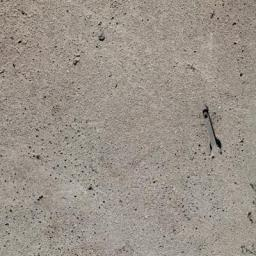FOD: (197, 104, 230, 164)
